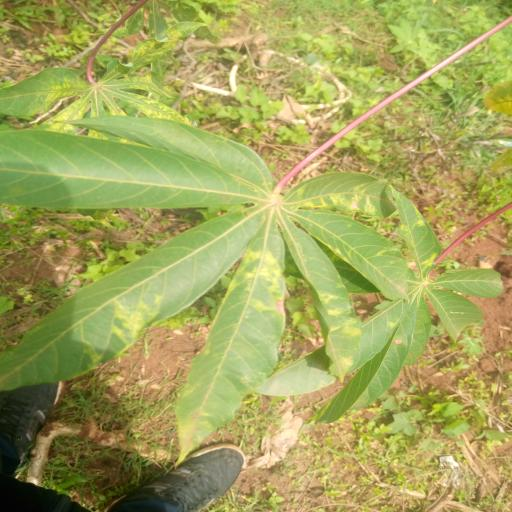Cassava_Mosaic: (0, 114, 415, 468), (281, 195, 504, 418)
